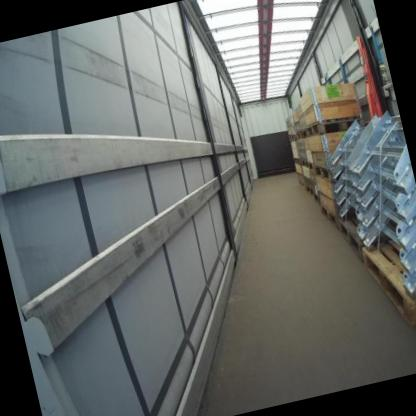pallet: (358, 230, 416, 336), (336, 210, 370, 269), (304, 109, 366, 141), (320, 201, 344, 234), (311, 162, 332, 184), (290, 153, 301, 169), (309, 188, 320, 204), (301, 128, 312, 141), (295, 177, 305, 191), (299, 157, 308, 172), (307, 160, 316, 174), (295, 130, 304, 143), (304, 184, 311, 196), (287, 132, 296, 141)
